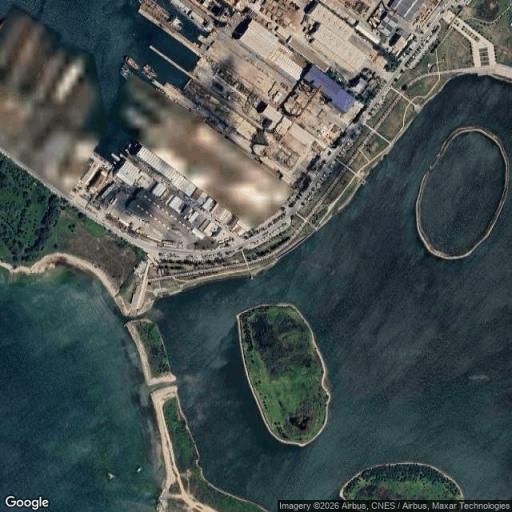ship: (169, 0, 212, 32), (140, 0, 182, 31), (190, 0, 234, 23), (124, 54, 142, 71), (143, 64, 156, 79), (120, 64, 130, 78), (112, 153, 120, 162), (108, 472, 115, 479), (136, 467, 141, 473)
